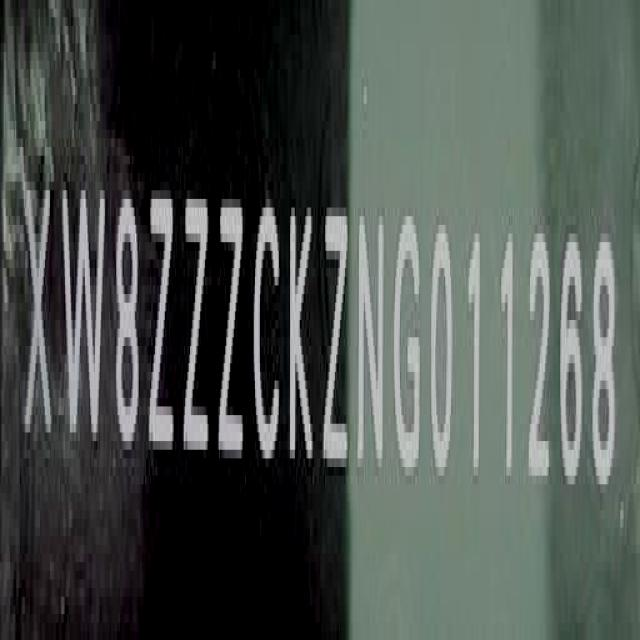0: (428, 218, 456, 488)
1: (500, 223, 519, 492), (462, 216, 480, 492)
2: (528, 225, 552, 492)
6: (558, 227, 584, 495)
8: (592, 224, 620, 494), (116, 184, 141, 460)
C: (254, 194, 284, 474)
G: (393, 206, 425, 485)
K: (290, 192, 319, 480)
N: (355, 202, 388, 484)
W: (61, 171, 106, 463)
X: (21, 165, 54, 462)
Z: (146, 182, 174, 469), (184, 182, 212, 468), (322, 200, 350, 482), (218, 193, 246, 473)
